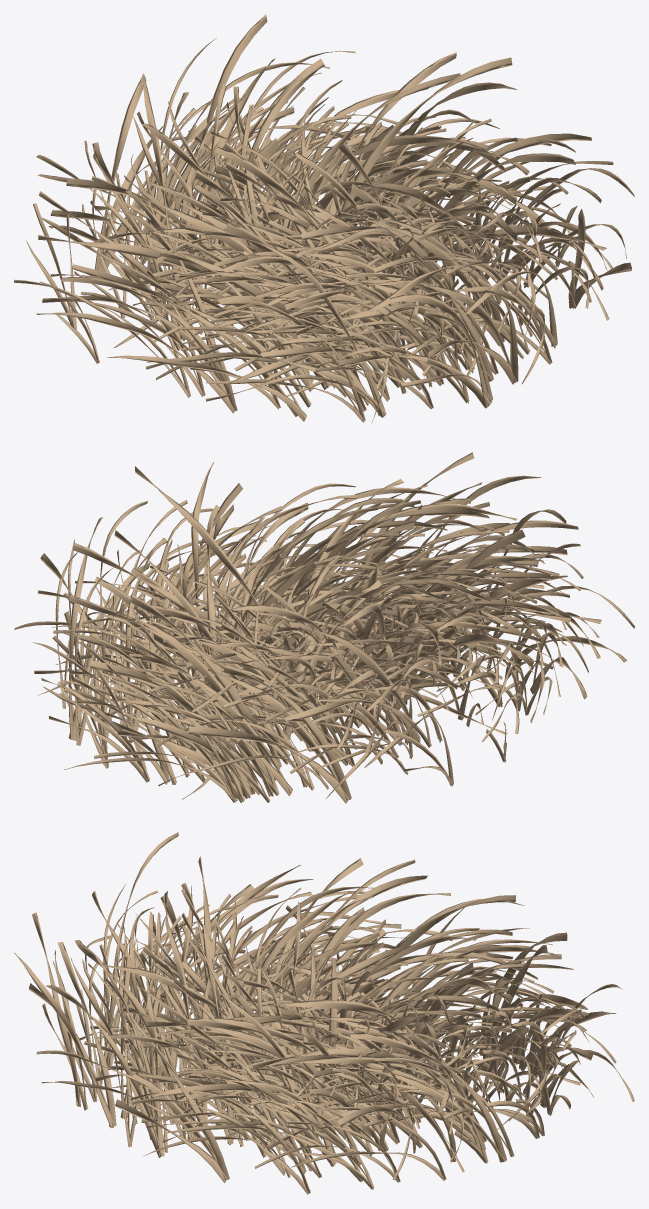
Rendered from Grass5.fbx.
3 renders of one model, top to bottom at view 1: azimuth 30°, elevation 25°; view 2: azimuth 150°, elevation 25°; view 3: azimuth 270°, elevation 25°, orthographic. The views are drawn at different scales.
Parts seen in each view (by area): view 1: grassDryBlowing18Main; view 2: grassDryBlowing18Main; view 3: grassDryBlowing18Main.
Part boxes in pixels (x1,y1,x2,y2): grassDryBlowing18Main: (14, 14, 634, 423); grassDryBlowing18Main: (14, 452, 634, 803); grassDryBlowing18Main: (14, 832, 634, 1194).
Bounding box in the file's own units: 29.86 × 10.79 × 30.87.
